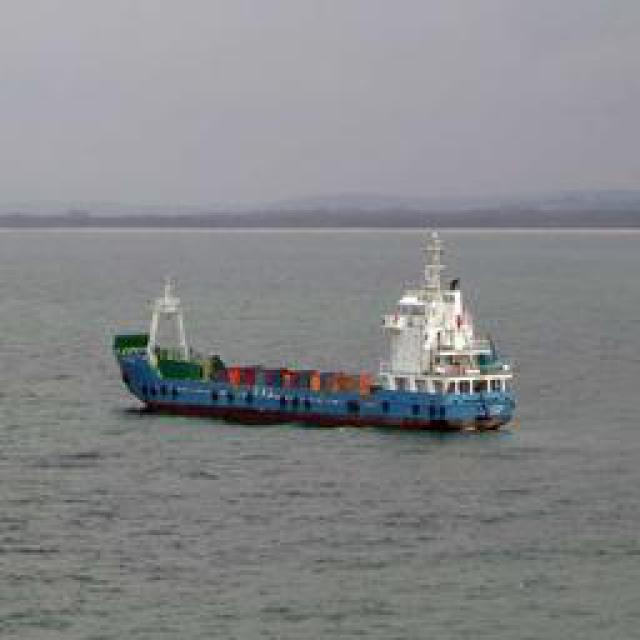Ship: (109, 223, 526, 441)
